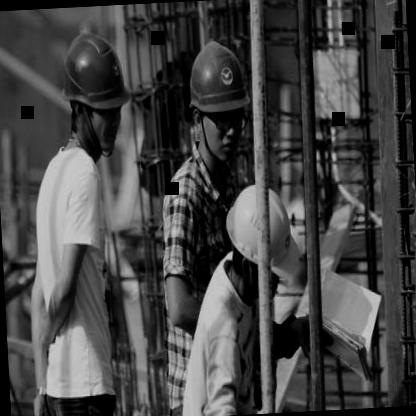helmet: (53, 15, 136, 162), (176, 29, 257, 174), (220, 171, 298, 315)
